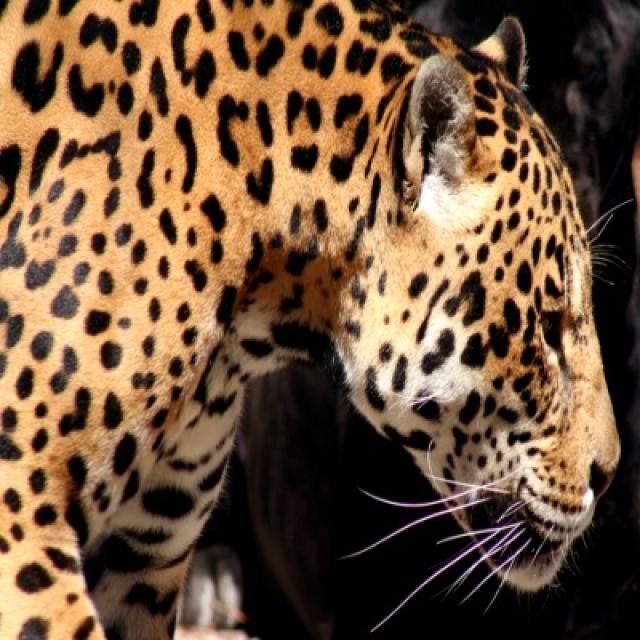Jaguar: (0, 0, 637, 638)
